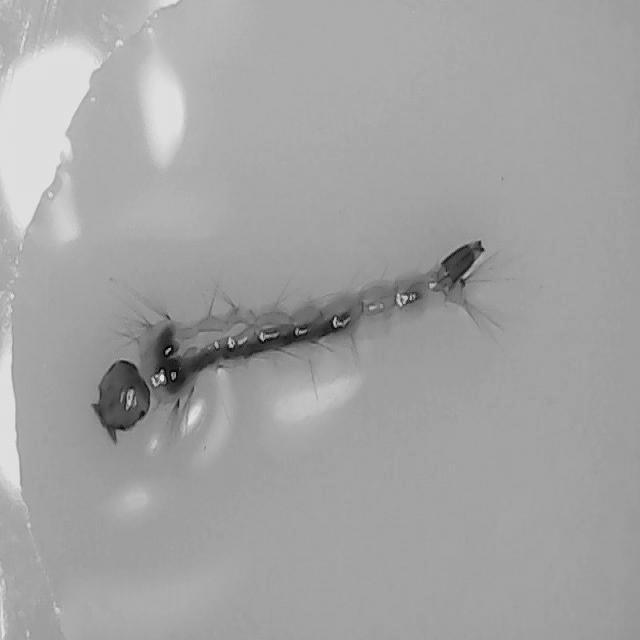larvas: (96, 247, 472, 433)
